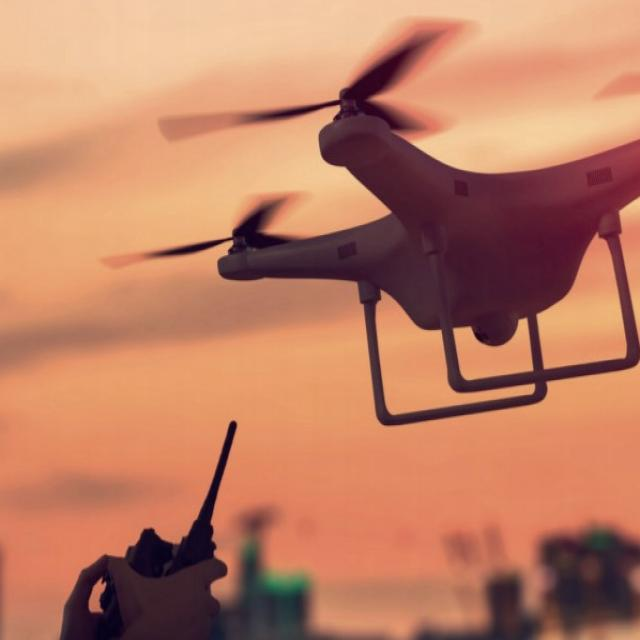drone: (123, 17, 640, 385)
